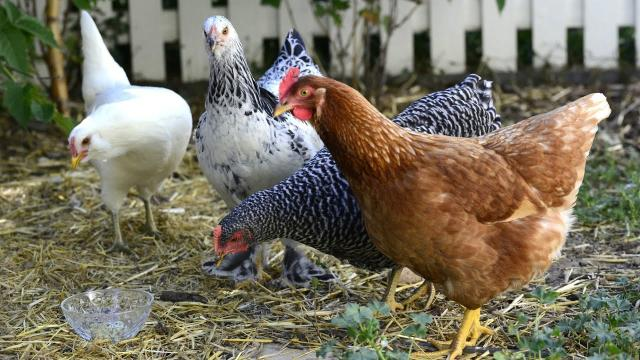Chicken: (274, 67, 611, 360), (211, 73, 501, 273), (68, 10, 192, 254), (194, 14, 324, 210)
